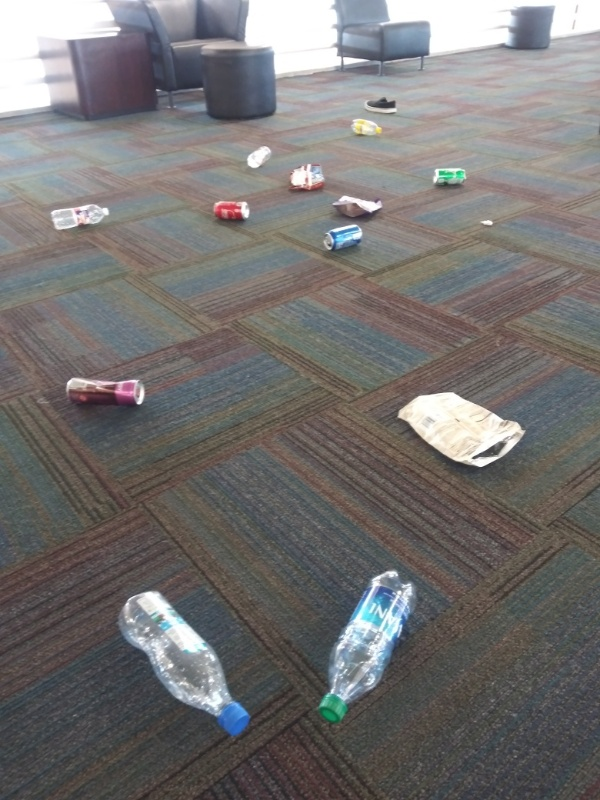bag: (389, 387, 529, 478), (330, 192, 389, 223), (285, 162, 329, 196)
bottle: (112, 587, 257, 744), (315, 564, 421, 730), (43, 202, 116, 232), (344, 114, 386, 140), (243, 144, 275, 173)
can: (61, 373, 148, 411), (319, 222, 367, 255), (209, 197, 253, 225), (426, 164, 471, 190)
